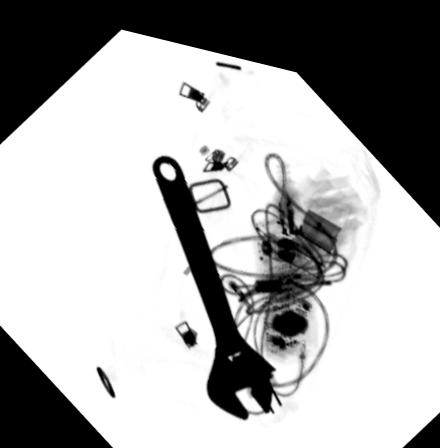Wrench: (149, 144, 277, 411)
